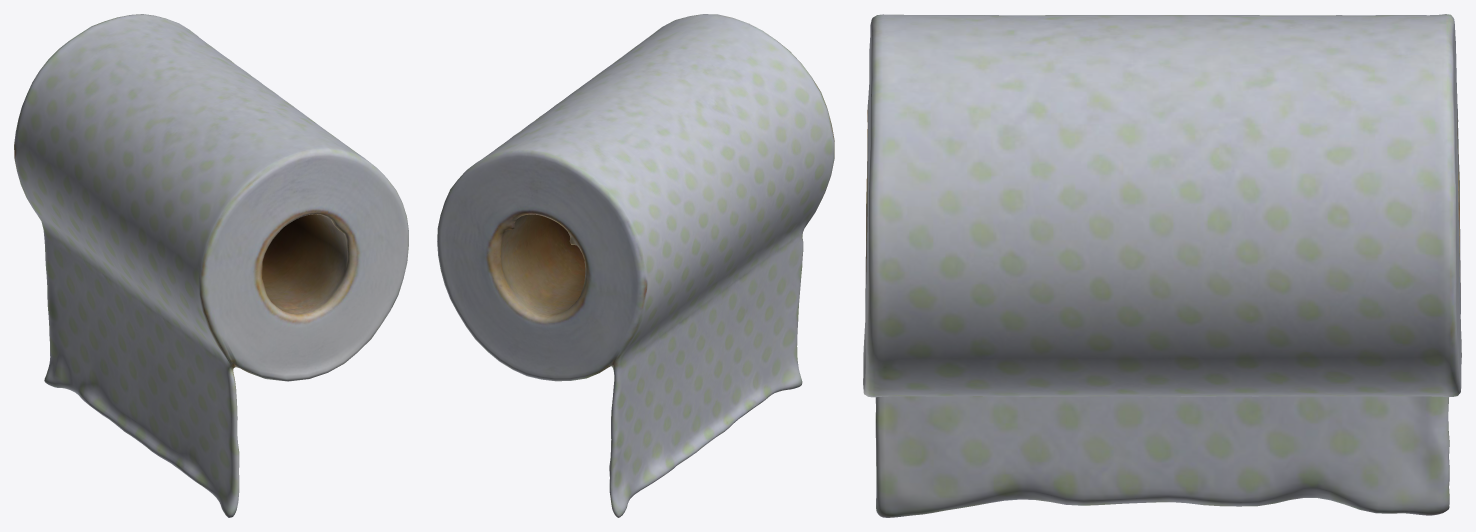
File: Toilet Paper.fbx
3 views of the same model, side by side, from view 1: azimuth 30°, elevation 25°; view 2: azimuth 150°, elevation 25°; view 3: azimuth 270°, elevation 25° (orthographic). The views are drawn at different scales.
Parts seen in each view (by area): view 1: mesh; view 2: mesh; view 3: mesh.
Part boxes in pixels (x1,y1,x2,y2): mesh: (14,14,408,517); mesh: (437,14,834,517); mesh: (863,14,1461,517).
Bounding box in the file's own units: 62.22 × 99.33 × 99.81.
